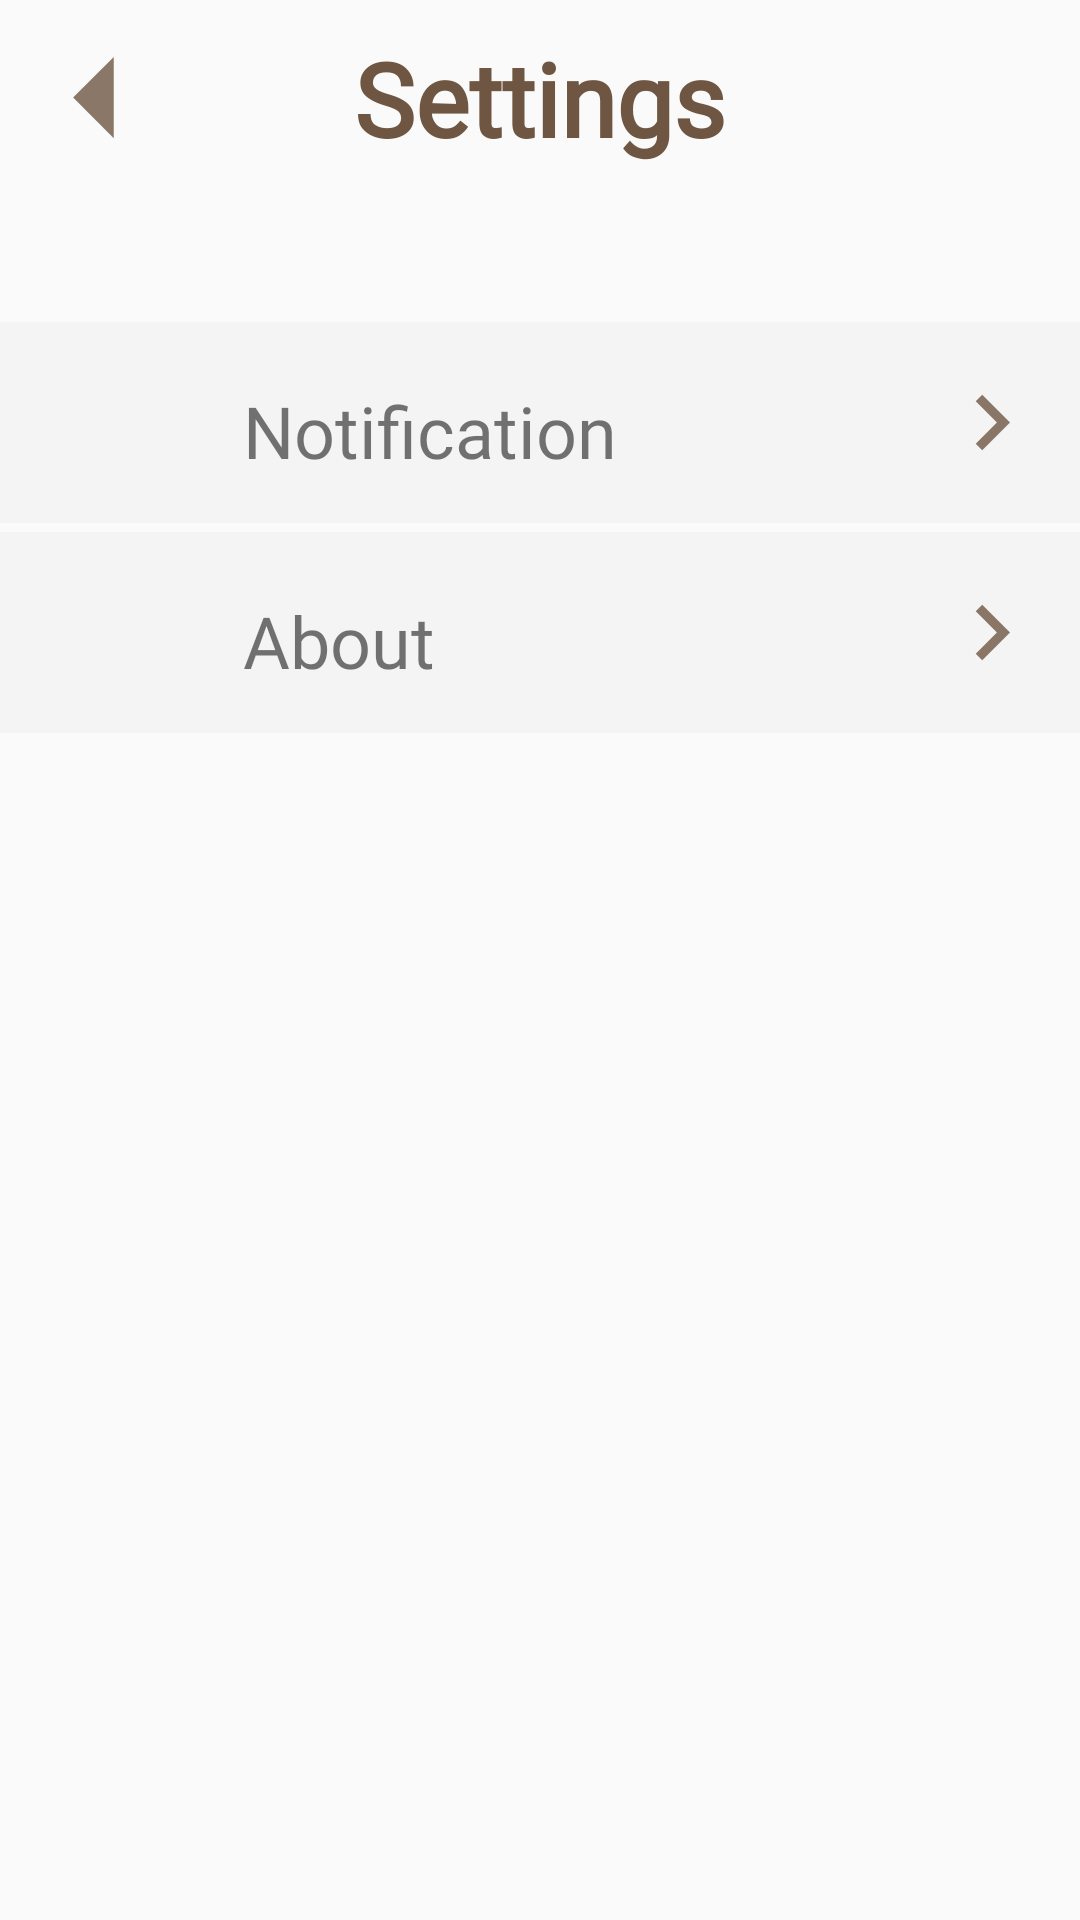

Point at icon controls on the screen. Image size 1080 x 1920, points as [x,y].
arrowright: [993,422], [993,632]
back: [93,97]
